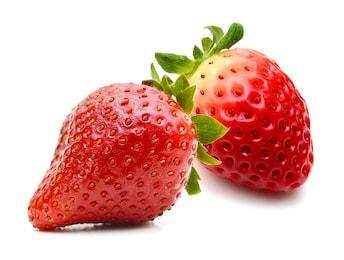Fresa: (21, 77, 202, 239), (175, 42, 319, 201)
